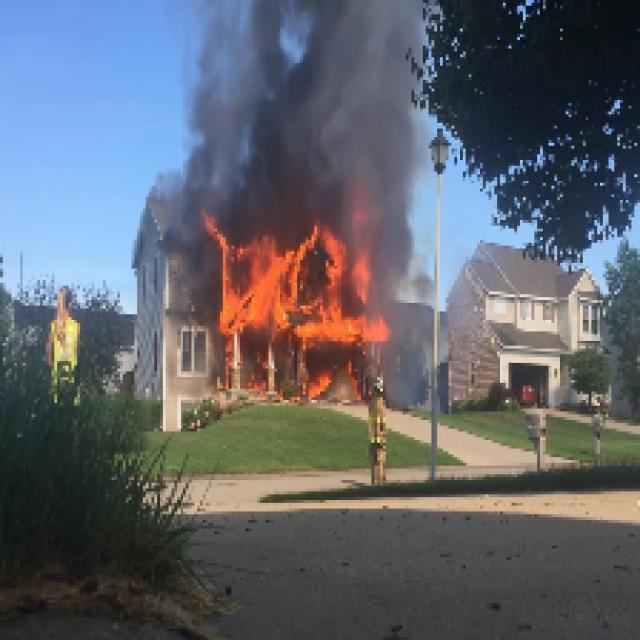Fire: (220, 240, 380, 337)
Smoke: (177, 2, 420, 188), (388, 195, 432, 392)
